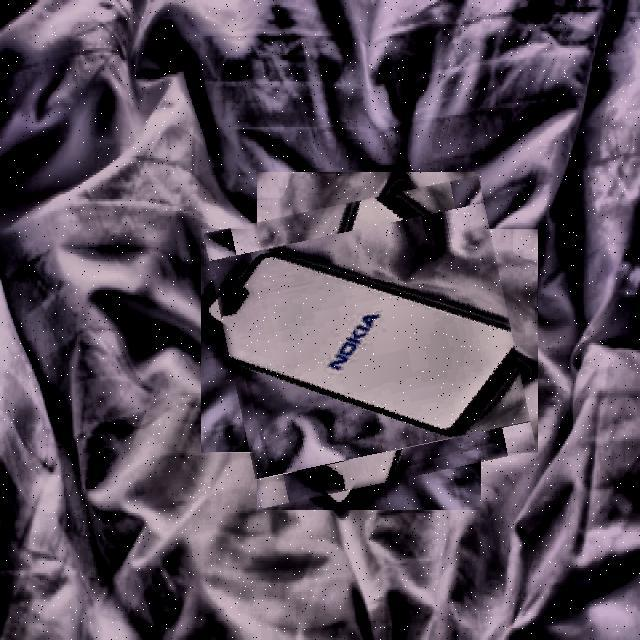Phone: (216, 188, 523, 495)
